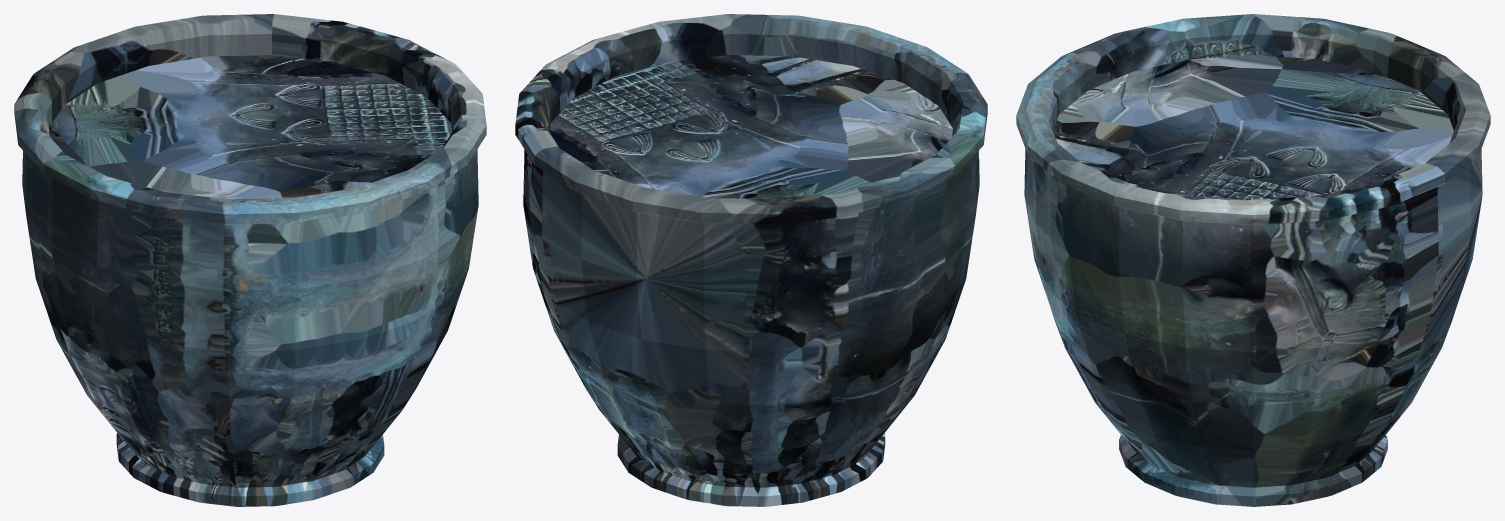
File: futuristic_room_24.obj
3 views of the same model, side by side, from view 1: azimuth 30°, elevation 25°; view 2: azimuth 150°, elevation 25°; view 3: azimuth 270°, elevation 25° (orthographic).
Size of the model in its own units: 0.353 by 0.2826 by 0.353.
